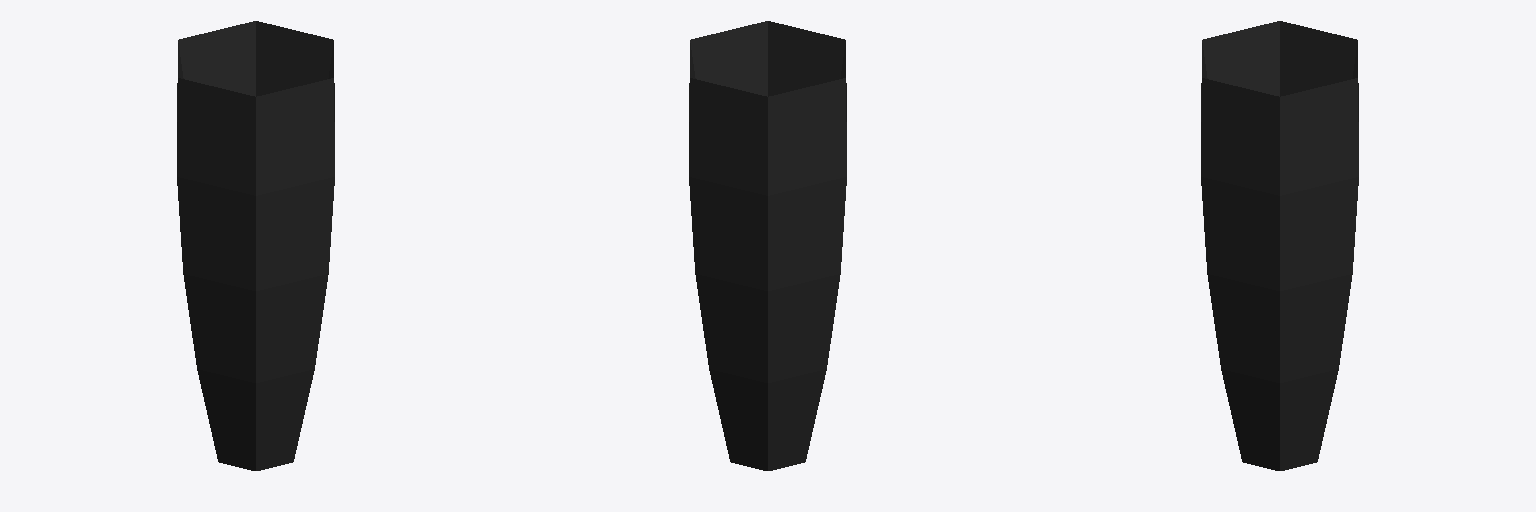
Rendered from turbine.obj.
The picture shows the model from 3 angles: view 1: azimuth 30°, elevation 25°; view 2: azimuth 150°, elevation 25°; view 3: azimuth 270°, elevation 25°; orthographic projection.
Visible parts, largest first — view 1: turbine; view 2: turbine; view 3: turbine.
Boxes of the visible parts, <box> form: turbine: <box>177,21,334,470</box>; turbine: <box>689,21,846,470</box>; turbine: <box>1201,21,1358,470</box>.
Size of the model in its own units: 2.1 by 5 by 1.82.